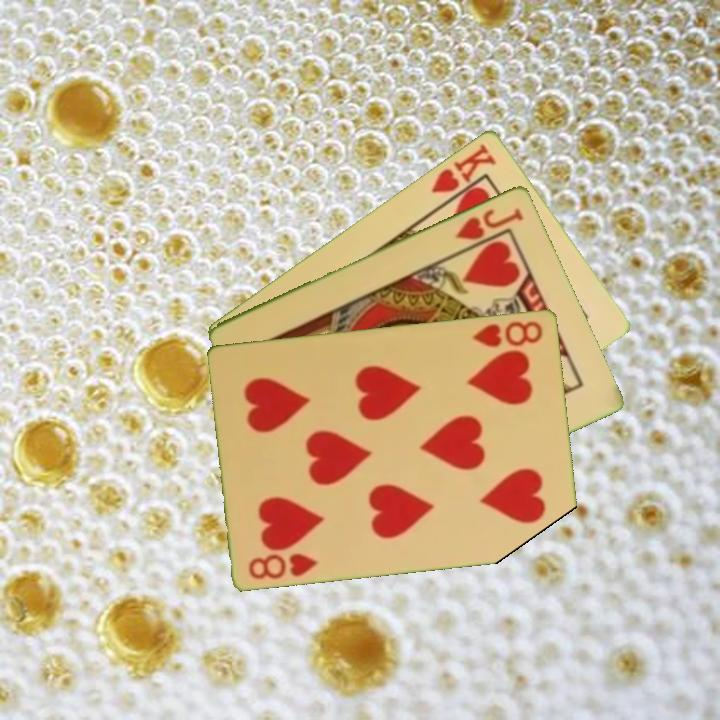8h: (469, 317, 546, 350), (245, 549, 322, 582)
Jh: (452, 204, 527, 243)
Kh: (428, 139, 499, 209)
